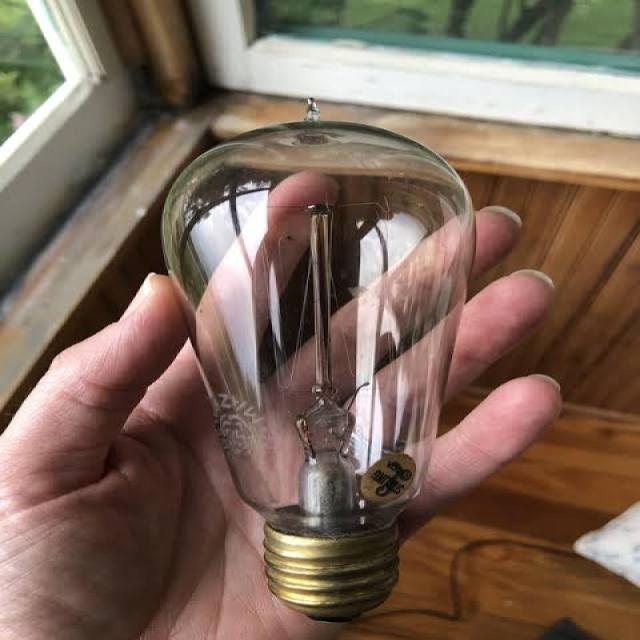bulb: (134, 115, 444, 639)
